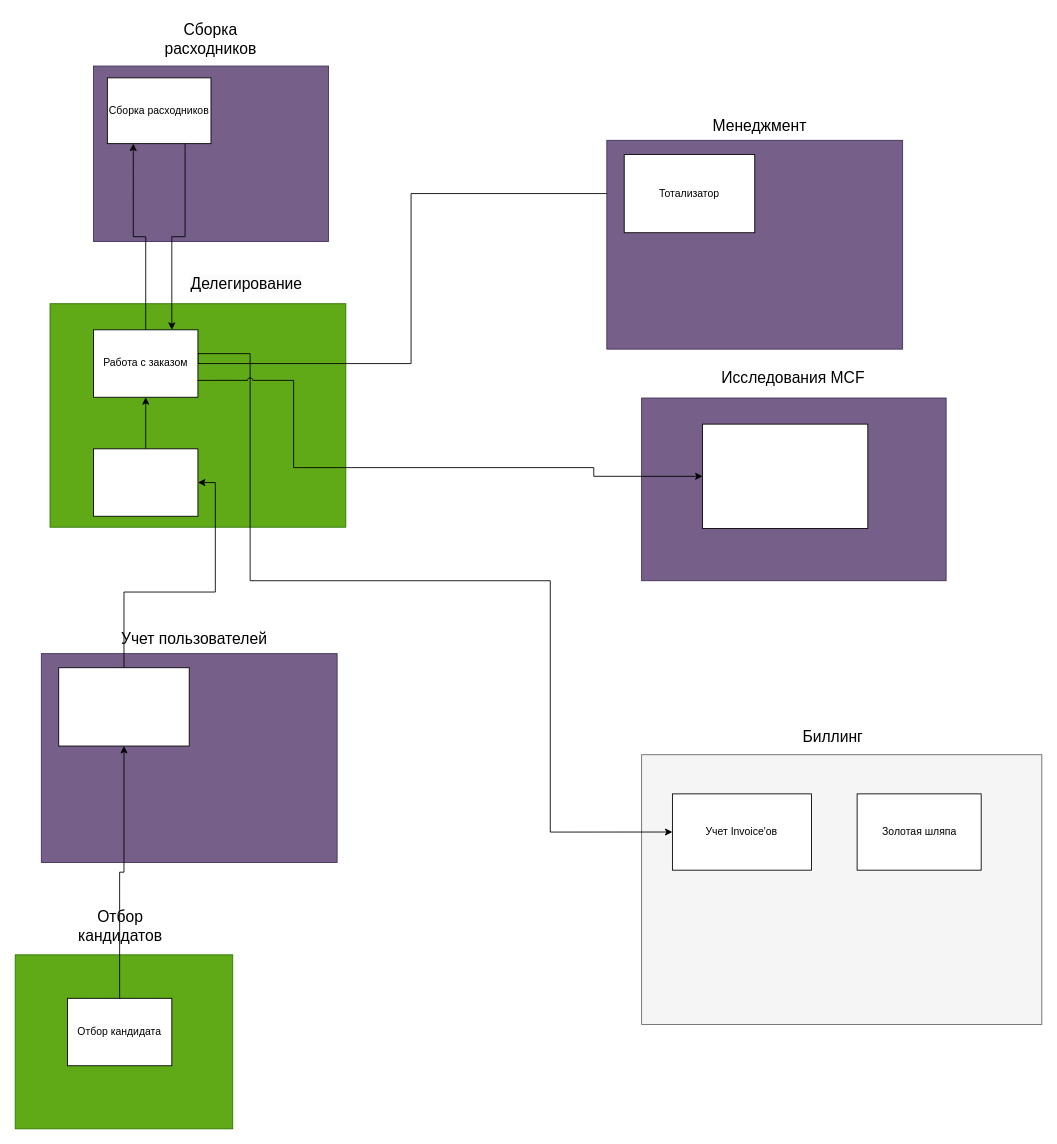
The diagram is 1057 pixels wide and 1144 high, and some of its shapes have lost their labels. The shapes that lost their labels are listed below. From the top down, each one's centre as x and y in pixels, then its label:
the point at 145,482: Матчинг
the point at 785,476: Проверка качества
the point at 123,706: Личный кабинет
